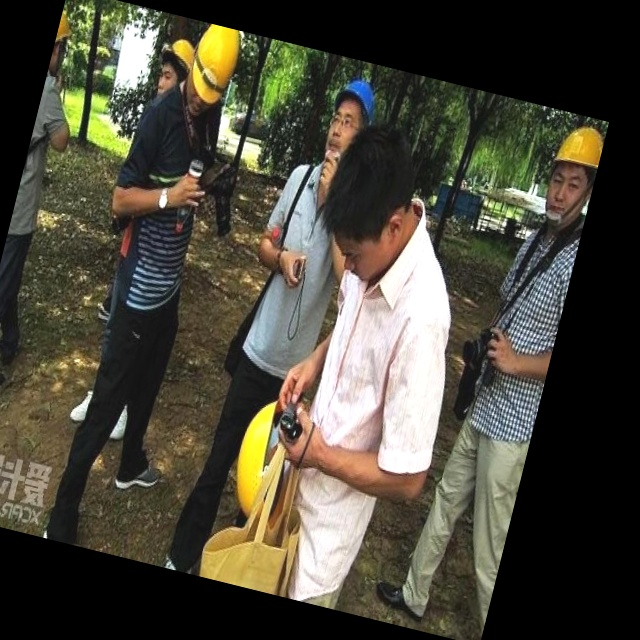Con_Casco: (539, 121, 607, 232), (182, 22, 244, 114), (153, 37, 195, 103)
Sin_Casco_Mascarrilla: (312, 112, 425, 282)
